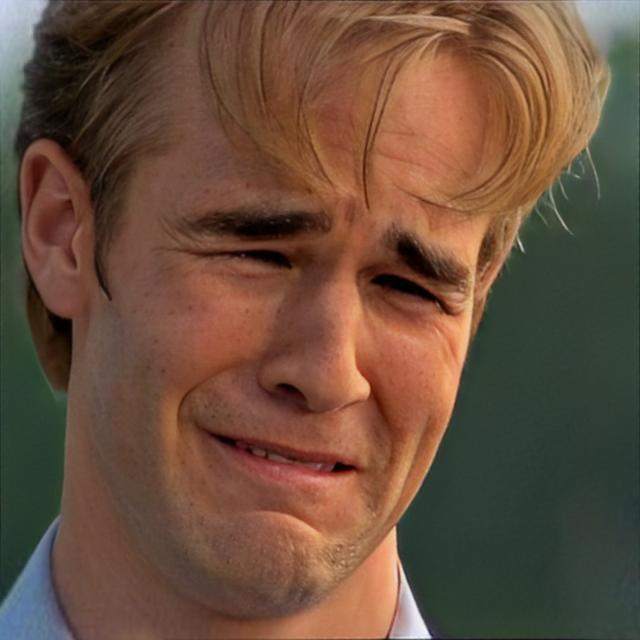sad: (89, 34, 504, 598)
